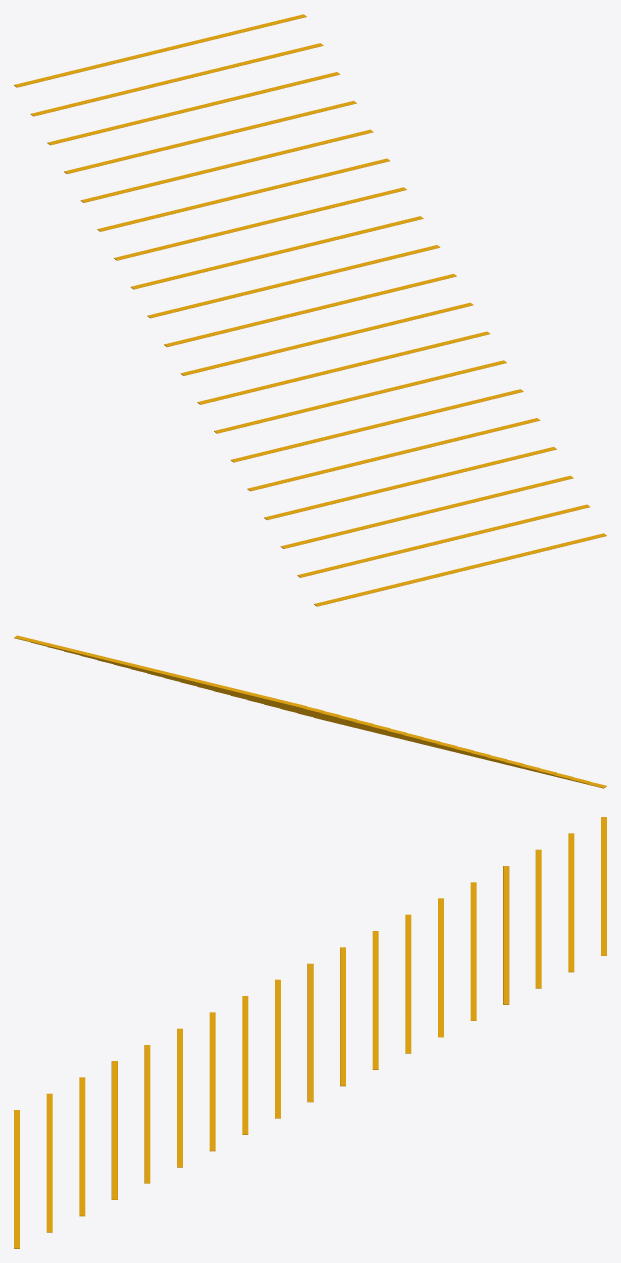
File: gteki_ik_stair_n19_r164_t298_w3008_nosing.glb
3 renders of one model, top to bottom at view 1: azimuth 30°, elevation 25°; view 2: azimuth 150°, elevation 25°; view 3: azimuth 270°, elevation 25°, orthographic. The views are drawn at different scales.
Parts seen in each view (by area): view 1: VIS_nosings; view 2: VIS_nosings; view 3: VIS_nosings.
Part boxes in pixels (x1=…): VIS_nosings: x1=14, y1=14, x2=606, y2=606; VIS_nosings: x1=14, y1=635, x2=606, y2=788; VIS_nosings: x1=14, y1=817, x2=606, y2=1248.
Size of the model in its own units: 2.99 by 2.96 by 5.42.
